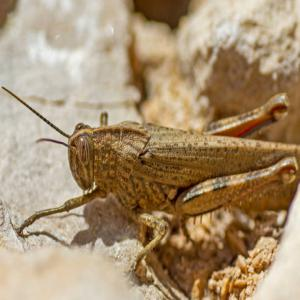locust: (34, 97, 300, 270)
